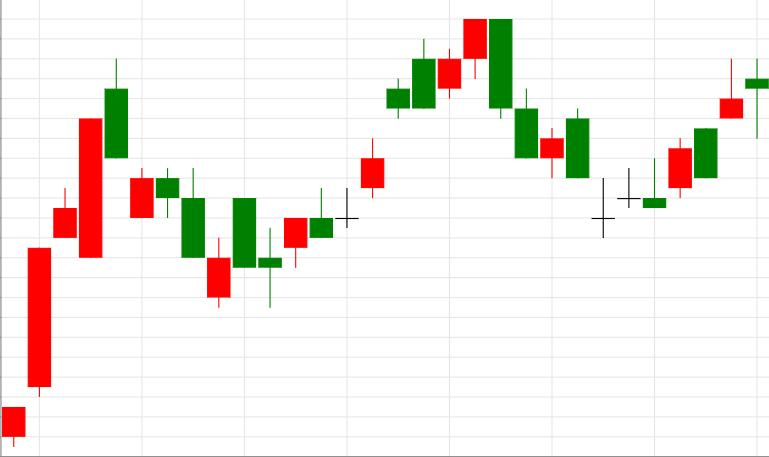bearish_engulfing_fall: (284, 18, 513, 269)
